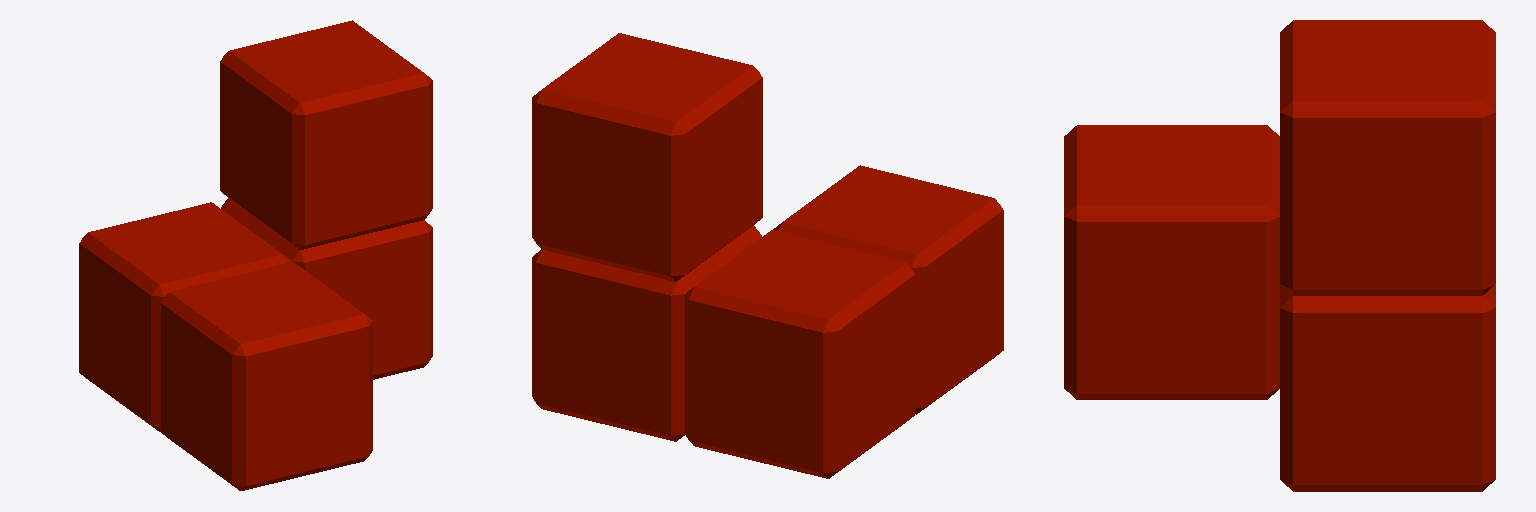
--- Facts derived from the render (not from the file) ---
The picture shows the robot from 3 angles, left to right: view 1: azimuth 30°, elevation 25°; view 2: azimuth 150°, elevation 25°; view 3: azimuth 270°, elevation 25°; orthographic projection.
Model obj_6 with 1 links and 0 joints (none), rooted at obj_6_link, posed all joints at 0.
Visible links, largest first — view 1: obj_6_link; view 2: obj_6_link; view 3: obj_6_link.
Link boxes in pixels (<box>): obj_6_link: <box>79,20,432,490</box>; obj_6_link: <box>532,33,1003,478</box>; obj_6_link: <box>1064,20,1495,491</box>.
Bounding box of the posed robot: 0.25 × 0.25 × 0.25 m (x, y, z).
1 mesh visuals loaded from 1 distinct referenced files (1 OBJ).

URDF robot description (obj_6):
<robot name="obj_6" version="1.0">
  <link name="obj_6_link">
    <collision name="obj_6-collision.001">
      <origin rpy="-1.57080 0.00000 -1.57080" xyz="-0.60316 0.39335 0.06643"/>
      <geometry>
        <mesh filename="../meshes/obj/obj_6-collision.001.obj" scale="1.00000 1.00000 1.00000"/>
      </geometry>
    </collision>
    <collision name="obj_6-collision.002">
      <origin rpy="-1.57080 0.00000 -2.35619" xyz="-0.60691 0.33460 0.06643"/>
      <geometry>
        <mesh filename="../meshes/obj/obj_6-collision.002.obj" scale="1.00000 1.00000 1.00000"/>
      </geometry>
    </collision>
    <collision name="obj_6-collision.003">
      <origin rpy="1.57080 -1.57080 -0.00000" xyz="-0.66566 0.33085 0.06643"/>
      <geometry>
        <mesh filename="../meshes/obj/obj_6-collision.003.obj" scale="1.00000 1.00000 1.00000"/>
      </geometry>
    </collision>
    <collision name="obj_6-collision.004">
      <origin rpy="1.57080 0.00000 -0.78540" xyz="-0.72441 0.33460 0.06643"/>
      <geometry>
        <mesh filename="../meshes/obj/obj_6-collision.004.obj" scale="1.00000 1.00000 1.00000"/>
      </geometry>
    </collision>
    <collision name="obj_6-collision.005">
      <origin rpy="1.57080 0.00000 -2.35619" xyz="-0.72441 0.45210 0.06643"/>
      <geometry>
        <mesh filename="../meshes/obj/obj_6-collision.005.obj" scale="1.00000 1.00000 1.00000"/>
      </geometry>
    </collision>
    <collision name="obj_6-collision.006">
      <origin rpy="-1.57080 1.57080 0.00000" xyz="-0.66566 0.45585 0.06643"/>
      <geometry>
        <mesh filename="../meshes/obj/obj_6-collision.006.obj" scale="1.00000 1.00000 1.00000"/>
      </geometry>
    </collision>
    <collision name="obj_6-collision.007">
      <origin rpy="-1.57080 0.00000 -0.78540" xyz="-0.60691 0.45210 0.06643"/>
      <geometry>
        <mesh filename="../meshes/obj/obj_6-collision.007.obj" scale="1.00000 1.00000 1.00000"/>
      </geometry>
    </collision>
    <collision name="obj_6-collision.008">
      <origin rpy="-3.14159 -0.78540 -0.00000" xyz="-0.60691 0.39335 0.00768"/>
      <geometry>
        <mesh filename="../meshes/obj/obj_6-collision.008.obj" scale="1.00000 1.00000 1.00000"/>
      </geometry>
    </collision>
    <collision name="obj_6-collision.009">
      <origin rpy="2.35619 0.00000 -0.00000" xyz="-0.66566 0.33460 0.00768"/>
      <geometry>
        <mesh filename="../meshes/obj/obj_6-collision.009.obj" scale="1.00000 1.00000 1.00000"/>
      </geometry>
    </collision>
    <collision name="obj_6-collision.010">
      <origin rpy="-3.14159 0.78540 0.00000" xyz="-0.72441 0.39335 0.00768"/>
      <geometry>
        <mesh filename="../meshes/obj/obj_6-collision.010.obj" scale="1.00000 1.00000 1.00000"/>
      </geometry>
    </collision>
    <collision name="obj_6-collision.011">
      <origin rpy="-2.35619 0.00000 -0.00000" xyz="-0.66566 0.45210 0.00768"/>
      <geometry>
        <mesh filename="../meshes/obj/obj_6-collision.011.obj" scale="1.00000 1.00000 1.00000"/>
      </geometry>
    </collision>
    <collision name="obj_6-collision.012">
      <origin rpy="-3.14159 0.00000 -0.00000" xyz="-0.66566 0.39335 0.00393"/>
      <geometry>
        <mesh filename="../meshes/obj/obj_6-collision.012.obj" scale="1.00000 1.00000 1.00000"/>
      </geometry>
    </collision>
    <collision name="obj_6-collision.013">
      <origin rpy="-0.00000 -0.78540 -3.14159" xyz="-0.60691 0.39335 0.12518"/>
      <geometry>
        <mesh filename="../meshes/obj/obj_6-collision.013.obj" scale="1.00000 1.00000 1.00000"/>
      </geometry>
    </collision>
    <collision name="obj_6-collision.014">
      <origin rpy="-0.78540 -0.00000 3.14159" xyz="-0.66566 0.33450 0.12529"/>
      <geometry>
        <mesh filename="../meshes/obj/obj_6-collision.014.obj" scale="1.00000 1.00000 1.00000"/>
      </geometry>
    </collision>
    <collision name="obj_6-collision.015">
      <origin rpy="-0.00000 0.78540 3.14159" xyz="-0.72441 0.39335 0.12518"/>
      <geometry>
        <mesh filename="../meshes/obj/obj_6-collision.015.obj" scale="1.00000 1.00000 1.00000"/>
      </geometry>
    </collision>
    <collision name="obj_6-collision.016">
      <origin rpy="0.78540 -0.00000 3.14159" xyz="-0.66566 0.45210 0.12518"/>
      <geometry>
        <mesh filename="../meshes/obj/obj_6-collision.016.obj" scale="1.00000 1.00000 1.00000"/>
      </geometry>
    </collision>
    <collision name="obj_6-collision.017">
      <origin rpy="-2.35619 0.00000 -0.00000" xyz="-0.66566 0.45210 0.13268"/>
      <geometry>
        <mesh filename="../meshes/obj/obj_6-collision.017.obj" scale="1.00000 1.00000 1.00000"/>
      </geometry>
    </collision>
    <collision name="obj_6-collision.018">
      <origin rpy="-3.14159 0.78540 0.00000" xyz="-0.72441 0.39335 0.13268"/>
      <geometry>
        <mesh filename="../meshes/obj/obj_6-collision.018.obj" scale="1.00000 1.00000 1.00000"/>
      </geometry>
    </collision>
    <collision name="obj_6-collision.019">
      <origin rpy="2.35619 0.00000 -0.00000" xyz="-0.66566 0.33460 0.13268"/>
      <geometry>
        <mesh filename="../meshes/obj/obj_6-collision.019.obj" scale="1.00000 1.00000 1.00000"/>
      </geometry>
    </collision>
    <collision name="obj_6-collision.020">
      <origin rpy="-3.14159 -0.78540 -0.00000" xyz="-0.60691 0.39335 0.13268"/>
      <geometry>
        <mesh filename="../meshes/obj/obj_6-collision.020.obj" scale="1.00000 1.00000 1.00000"/>
      </geometry>
    </collision>
    <collision name="obj_6-collision.021">
      <origin rpy="1.57080 -1.57080 -0.00000" xyz="-0.66566 0.33085 0.19143"/>
      <geometry>
        <mesh filename="../meshes/obj/obj_6-collision.021.obj" scale="1.00000 1.00000 1.00000"/>
      </geometry>
    </collision>
    <collision name="obj_6-collision.022">
      <origin rpy="1.57080 0.00000 -0.78540" xyz="-0.72441 0.33460 0.19143"/>
      <geometry>
        <mesh filename="../meshes/obj/obj_6-collision.022.obj" scale="1.00000 1.00000 1.00000"/>
      </geometry>
    </collision>
    <collision name="obj_6-collision.023">
      <origin rpy="1.57080 0.00000 -1.57080" xyz="-0.72816 0.39335 0.19143"/>
      <geometry>
        <mesh filename="../meshes/obj/obj_6-collision.023.obj" scale="1.00000 1.00000 1.00000"/>
      </geometry>
    </collision>
    <collision name="obj_6-collision.024">
      <origin rpy="-2.35619 1.57080 0.00000" xyz="-0.72441 0.45210 0.19143"/>
      <geometry>
        <mesh filename="../meshes/obj/obj_6-collision.024.obj" scale="1.00000 1.00000 1.00000"/>
      </geometry>
    </collision>
    <collision name="obj_6-collision.025">
      <origin rpy="-1.57080 1.57080 0.00000" xyz="-0.66566 0.45585 0.19143"/>
      <geometry>
        <mesh filename="../meshes/obj/obj_6-collision.025.obj" scale="1.00000 1.00000 1.00000"/>
      </geometry>
    </collision>
    <collision name="obj_6-collision.026">
      <origin rpy="-1.57080 0.00000 -0.78540" xyz="-0.60691 0.45210 0.19143"/>
      <geometry>
        <mesh filename="../meshes/obj/obj_6-collision.026.obj" scale="1.00000 1.00000 1.00000"/>
      </geometry>
    </collision>
    <collision name="obj_6-collision.027">
      <origin rpy="-1.57080 0.00000 -1.57080" xyz="-0.60316 0.39335 0.19143"/>
      <geometry>
        <mesh filename="../meshes/obj/obj_6-collision.027.obj" scale="1.00000 1.00000 1.00000"/>
      </geometry>
    </collision>
    <collision name="obj_6-collision.028">
      <origin rpy="-1.57080 0.00000 -2.35619" xyz="-0.60691 0.33460 0.19143"/>
      <geometry>
        <mesh filename="../meshes/obj/obj_6-collision.028.obj" scale="1.00000 1.00000 1.00000"/>
      </geometry>
    </collision>
    <collision name="obj_6-collision.029">
      <origin rpy="-0.78540 -0.00000 3.14159" xyz="-0.66566 0.33460 0.25018"/>
      <geometry>
        <mesh filename="../meshes/obj/obj_6-collision.029.obj" scale="1.00000 1.00000 1.00000"/>
      </geometry>
    </collision>
    <collision name="obj_6-collision.030">
      <origin rpy="-0.00000 0.78540 3.14159" xyz="-0.72441 0.39335 0.25018"/>
      <geometry>
        <mesh filename="../meshes/obj/obj_6-collision.030.obj" scale="1.00000 1.00000 1.00000"/>
      </geometry>
    </collision>
    <collision name="obj_6-collision.031">
      <origin rpy="-0.78540 -0.00000 -0.00000" xyz="-0.66566 0.45210 0.25018"/>
      <geometry>
        <mesh filename="../meshes/obj/obj_6-collision.031.obj" scale="1.00000 1.00000 1.00000"/>
      </geometry>
    </collision>
    <collision name="obj_6-collision.032">
      <origin rpy="-0.00000 -0.78540 -3.14159" xyz="-0.60691 0.39335 0.25018"/>
      <geometry>
        <mesh filename="../meshes/obj/obj_6-collision.032.obj" scale="1.00000 1.00000 1.00000"/>
      </geometry>
    </collision>
    <collision name="obj_6-collision.033">
      <origin rpy="-0.00000 -0.00000 3.14159" xyz="-0.66566 0.39335 0.25393"/>
      <geometry>
        <mesh filename="../meshes/obj/obj_6-collision.033.obj" scale="1.00000 1.00000 1.00000"/>
      </geometry>
    </collision>
    <collision name="obj_6-collision.034">
      <origin rpy="-0.00000 -0.00000 3.14159" xyz="-0.79066 0.39335 0.12893"/>
      <geometry>
        <mesh filename="../meshes/obj/obj_6-collision.034.obj" scale="1.00000 1.00000 1.00000"/>
      </geometry>
    </collision>
    <collision name="obj_6-collision.035">
      <origin rpy="-0.78540 -0.00000 3.14159" xyz="-0.79066 0.33460 0.12518"/>
      <geometry>
        <mesh filename="../meshes/obj/obj_6-collision.035.obj" scale="1.00000 1.00000 1.00000"/>
      </geometry>
    </collision>
    <collision name="obj_6-collision.036">
      <origin rpy="-0.00000 -0.78540 -3.14159" xyz="-0.73191 0.39335 0.12518"/>
      <geometry>
        <mesh filename="../meshes/obj/obj_6-collision.036.obj" scale="1.00000 1.00000 1.00000"/>
      </geometry>
    </collision>
    <collision name="obj_6-collision.037">
      <origin rpy="0.78540 -0.00000 3.14159" xyz="-0.79066 0.45210 0.12518"/>
      <geometry>
        <mesh filename="../meshes/obj/obj_6-collision.037.obj" scale="1.00000 1.00000 1.00000"/>
      </geometry>
    </collision>
    <collision name="obj_6-collision.038">
      <origin rpy="-0.00000 0.78540 3.14159" xyz="-0.84941 0.39335 0.12518"/>
      <geometry>
        <mesh filename="../meshes/obj/obj_6-collision.038.obj" scale="1.00000 1.00000 1.00000"/>
      </geometry>
    </collision>
    <collision name="obj_6-collision.039">
      <origin rpy="-1.57080 1.57080 0.00000" xyz="-0.79066 0.45585 0.06643"/>
      <geometry>
        <mesh filename="../meshes/obj/obj_6-collision.039.obj" scale="1.00000 1.00000 1.00000"/>
      </geometry>
    </collision>
    <collision name="obj_6-collision.040">
      <origin rpy="-1.57080 0.00000 -0.78540" xyz="-0.73191 0.45210 0.06643"/>
      <geometry>
        <mesh filename="../meshes/obj/obj_6-collision.040.obj" scale="1.00000 1.00000 1.00000"/>
      </geometry>
    </collision>
    <collision name="obj_6-collision.041">
      <origin rpy="1.57080 0.00000 -2.35619" xyz="-0.84941 0.45210 0.06643"/>
      <geometry>
        <mesh filename="../meshes/obj/obj_6-collision.041.obj" scale="1.00000 1.00000 1.00000"/>
      </geometry>
    </collision>
    <collision name="obj_6-collision.042">
      <origin rpy="1.57080 0.00000 -1.57080" xyz="-0.85316 0.39335 0.06643"/>
      <geometry>
        <mesh filename="../meshes/obj/obj_6-collision.042.obj" scale="1.00000 1.00000 1.00000"/>
      </geometry>
    </collision>
    <collision name="obj_6-collision.043">
      <origin rpy="1.57080 0.00000 -0.78540" xyz="-0.84941 0.33460 0.06643"/>
      <geometry>
        <mesh filename="../meshes/obj/obj_6-collision.043.obj" scale="1.00000 1.00000 1.00000"/>
      </geometry>
    </collision>
    <collision name="obj_6-collision.044">
      <origin rpy="-1.57080 0.00000 -2.35619" xyz="-0.73191 0.33460 0.06643"/>
      <geometry>
        <mesh filename="../meshes/obj/obj_6-collision.044.obj" scale="1.00000 1.00000 1.00000"/>
      </geometry>
    </collision>
    <collision name="obj_6-collision.045">
      <origin rpy="2.35619 0.00000 -0.00000" xyz="-0.79066 0.33460 0.00768"/>
      <geometry>
        <mesh filename="../meshes/obj/obj_6-collision.045.obj" scale="1.00000 1.00000 1.00000"/>
      </geometry>
    </collision>
    <collision name="obj_6-collision.046">
      <origin rpy="-3.14159 0.78540 0.00000" xyz="-0.84941 0.39335 0.00768"/>
      <geometry>
        <mesh filename="../meshes/obj/obj_6-collision.046.obj" scale="1.00000 1.00000 1.00000"/>
      </geometry>
    </collision>
    <collision name="obj_6-collision.047">
      <origin rpy="-2.35619 0.00000 -0.00000" xyz="-0.79066 0.45210 0.00768"/>
      <geometry>
        <mesh filename="../meshes/obj/obj_6-collision.047.obj" scale="1.00000 1.00000 1.00000"/>
      </geometry>
    </collision>
    <collision name="obj_6-collision.048">
      <origin rpy="-3.14159 -0.78540 -0.00000" xyz="-0.73191 0.39335 0.00768"/>
      <geometry>
        <mesh filename="../meshes/obj/obj_6-collision.048.obj" scale="1.00000 1.00000 1.00000"/>
      </geometry>
    </collision>
    <collision name="obj_6-collision.049">
      <origin rpy="3.14159 0.00000 -1.57080" xyz="-0.79066 0.39335 0.00393"/>
      <geometry>
        <mesh filename="../meshes/obj/obj_6-collision.049.obj" scale="1.00000 1.00000 1.00000"/>
      </geometry>
    </collision>
    <collision name="obj_6-collision.050">
      <origin rpy="-3.14159 0.00000 -0.00000" xyz="-0.79066 0.26835 0.00393"/>
      <geometry>
        <mesh filename="../meshes/obj/obj_6-collision.050.obj" scale="1.00000 1.00000 1.00000"/>
      </geometry>
    </collision>
    <collision name="obj_6-collision.051">
      <origin rpy="-3.14159 0.78540 0.00000" xyz="-0.84941 0.26835 0.00768"/>
      <geometry>
        <mesh filename="../meshes/obj/obj_6-collision.051.obj" scale="1.00000 1.00000 1.00000"/>
      </geometry>
    </collision>
    <collision name="obj_6-collision.052">
      <origin rpy="-2.35619 0.00000 -0.00000" xyz="-0.79066 0.32710 0.00768"/>
      <geometry>
        <mesh filename="../meshes/obj/obj_6-collision.052.obj" scale="1.00000 1.00000 1.00000"/>
      </geometry>
    </collision>
    <collision name="obj_6-collision.053">
      <origin rpy="-3.14159 -0.78540 -0.00000" xyz="-0.73191 0.26835 0.00768"/>
      <geometry>
        <mesh filename="../meshes/obj/obj_6-collision.053.obj" scale="1.00000 1.00000 1.00000"/>
      </geometry>
    </collision>
    <collision name="obj_6-collision.054">
      <origin rpy="-3.14159 0.78540 1.57080" xyz="-0.79066 0.20960 0.00768"/>
      <geometry>
        <mesh filename="../meshes/obj/obj_6-collision.054.obj" scale="1.00000 1.00000 1.00000"/>
      </geometry>
    </collision>
    <collision name="obj_6-collision.055">
      <origin rpy="-2.35619 -1.57080 -0.00000" xyz="-0.73191 0.32710 0.06643"/>
      <geometry>
        <mesh filename="../meshes/obj/obj_6-collision.055.obj" scale="1.00000 1.00000 1.00000"/>
      </geometry>
    </collision>
    <collision name="obj_6-collision.056">
      <origin rpy="1.57080 -0.00000 1.57080" xyz="-0.72816 0.26835 0.06643"/>
      <geometry>
        <mesh filename="../meshes/obj/obj_6-collision.056.obj" scale="1.00000 1.00000 1.00000"/>
      </geometry>
    </collision>
    <collision name="obj_6-collision.057">
      <origin rpy="0.78540 1.57080 -0.00000" xyz="-0.73191 0.20960 0.06643"/>
      <geometry>
        <mesh filename="../meshes/obj/obj_6-collision.057.obj" scale="1.00000 1.00000 1.00000"/>
      </geometry>
    </collision>
    <collision name="obj_6-collision.058">
      <origin rpy="1.57080 -1.57080 -0.00000" xyz="-0.79066 0.20585 0.06643"/>
      <geometry>
        <mesh filename="../meshes/obj/obj_6-collision.058.obj" scale="1.00000 1.00000 1.00000"/>
      </geometry>
    </collision>
    <collision name="obj_6-collision.059">
      <origin rpy="1.57080 0.00000 -0.78540" xyz="-0.84941 0.20960 0.06643"/>
      <geometry>
        <mesh filename="../meshes/obj/obj_6-collision.059.obj" scale="1.00000 1.00000 1.00000"/>
      </geometry>
    </collision>
    <collision name="obj_6-collision.060">
      <origin rpy="-1.57080 -0.00000 1.57080" xyz="-0.85316 0.26835 0.06643"/>
      <geometry>
        <mesh filename="../meshes/obj/obj_6-collision.060.obj" scale="1.00000 1.00000 1.00000"/>
      </geometry>
    </collision>
    <collision name="obj_6-collision.061">
      <origin rpy="1.57080 0.00000 -2.35619" xyz="-0.84941 0.32710 0.06643"/>
      <geometry>
        <mesh filename="../meshes/obj/obj_6-collision.061.obj" scale="1.00000 1.00000 1.00000"/>
      </geometry>
    </collision>
    <collision name="obj_6-collision.062">
      <origin rpy="-0.00000 0.78540 3.14159" xyz="-0.84941 0.26835 0.12518"/>
      <geometry>
        <mesh filename="../meshes/obj/obj_6-collision.062.obj" scale="1.00000 1.00000 1.00000"/>
      </geometry>
    </collision>
    <collision name="obj_6-collision.063">
      <origin rpy="0.78540 -0.00000 3.14159" xyz="-0.79066 0.32710 0.12518"/>
      <geometry>
        <mesh filename="../meshes/obj/obj_6-collision.063.obj" scale="1.00000 1.00000 1.00000"/>
      </geometry>
    </collision>
    <collision name="obj_6-collision.064">
      <origin rpy="-0.00000 -0.78540 -3.14159" xyz="-0.73191 0.26835 0.12518"/>
      <geometry>
        <mesh filename="../meshes/obj/obj_6-collision.064.obj" scale="1.00000 1.00000 1.00000"/>
      </geometry>
    </collision>
    <collision name="obj_6-collision.065">
      <origin rpy="-0.78540 -0.00000 3.14159" xyz="-0.79066 0.20960 0.12518"/>
      <geometry>
        <mesh filename="../meshes/obj/obj_6-collision.065.obj" scale="1.00000 1.00000 1.00000"/>
      </geometry>
    </collision>
    <collision name="obj_6-collision.066">
      <origin rpy="-0.00000 -0.00000 3.14159" xyz="-0.79066 0.26835 0.12893"/>
      <geometry>
        <mesh filename="../meshes/obj/obj_6-collision.066.obj" scale="1.00000 1.00000 1.00000"/>
      </geometry>
    </collision>
    <collision name="obj_6-collision.067">
      <origin rpy="1.57080 -1.57080 -0.00000" xyz="-0.72816 0.36062 0.09917"/>
      <geometry>
        <mesh filename="../meshes/obj/obj_6-collision.067.obj" scale="0.00500 0.00500 0.00500"/>
      </geometry>
    </collision>
    <collision name="obj_6-collision.068">
      <origin rpy="1.57080 -1.57080 -0.00000" xyz="-0.72816 0.36062 0.09917"/>
      <geometry>
        <mesh filename="../meshes/obj/obj_6-collision.068.obj" scale="0.00500 0.00500 0.00500"/>
      </geometry>
    </collision>
    <collision name="obj_6-collision.069">
      <origin rpy="1.57080 -1.57080 -0.00000" xyz="-0.72816 0.36062 0.09917"/>
      <geometry>
        <mesh filename="../meshes/obj/obj_6-collision.069.obj" scale="0.00500 0.00500 0.00500"/>
      </geometry>
    </collision>
    <collision name="obj_6-collision.070">
      <origin rpy="1.57080 -1.57080 -0.00000" xyz="-0.72816 0.36062 0.09917"/>
      <geometry>
        <mesh filename="../meshes/obj/obj_6-collision.070.obj" scale="0.00500 0.00500 0.00500"/>
      </geometry>
    </collision>
    <collision name="obj_6-collision.071">
      <origin rpy="1.57080 -1.57080 -0.00000" xyz="-0.72816 0.36062 0.09917"/>
      <geometry>
        <mesh filename="../meshes/obj/obj_6-collision.071.obj" scale="0.00500 0.00500 0.00500"/>
      </geometry>
    </collision>
    <collision name="obj_6-collision.072">
      <origin rpy="1.57080 -1.57080 -0.00000" xyz="-0.72816 0.36062 0.09917"/>
      <geometry>
        <mesh filename="../meshes/obj/obj_6-collision.072.obj" scale="0.00500 0.00500 0.00500"/>
      </geometry>
    </collision>
    <collision name="obj_6-collision.073">
      <origin rpy="1.57080 -1.57080 -0.00000" xyz="-0.72816 0.36062 0.09917"/>
      <geometry>
        <mesh filename="../meshes/obj/obj_6-collision.073.obj" scale="0.00500 0.00500 0.00500"/>
      </geometry>
    </collision>
    <collision name="obj_6-collision.074">
      <origin rpy="1.57080 -1.57080 -0.00000" xyz="-0.72816 0.36062 0.09917"/>
      <geometry>
        <mesh filename="../meshes/obj/obj_6-collision.074.obj" scale="0.00500 0.00500 0.00500"/>
      </geometry>
    </collision>
    <collision name="obj_6-collision.075">
      <origin rpy="1.57080 -1.57080 -0.00000" xyz="-0.72816 0.36062 0.09917"/>
      <geometry>
        <mesh filename="../meshes/obj/obj_6-collision.075.obj" scale="0.00500 0.00500 0.00500"/>
      </geometry>
    </collision>
    <collision name="obj_6-collision.076">
      <origin rpy="1.57080 -1.57080 -0.00000" xyz="-0.72816 0.36062 0.09917"/>
      <geometry>
        <mesh filename="../meshes/obj/obj_6-collision.076.obj" scale="0.00500 0.00500 0.00500"/>
      </geometry>
    </collision>
    <collision name="obj_6-collision.077">
      <origin rpy="1.57080 -1.57080 -0.00000" xyz="-0.72816 0.36062 0.09917"/>
      <geometry>
        <mesh filename="../meshes/obj/obj_6-collision.077.obj" scale="0.00500 0.00500 0.00500"/>
      </geometry>
    </collision>
    <collision name="obj_6-collision.078">
      <origin rpy="1.57080 -1.57080 -0.00000" xyz="-0.72816 0.36062 0.09917"/>
      <geometry>
        <mesh filename="../meshes/obj/obj_6-collision.078.obj" scale="0.00500 0.00500 0.00500"/>
      </geometry>
    </collision>
    <collision name="obj_6-collision.079">
      <origin rpy="1.57080 -1.57080 -0.00000" xyz="-0.72816 0.36062 0.09917"/>
      <geometry>
        <mesh filename="../meshes/obj/obj_6-collision.079.obj" scale="0.00500 0.00500 0.00500"/>
      </geometry>
    </collision>
    <collision name="obj_6-collision.080">
      <origin rpy="1.57080 -1.57080 -0.00000" xyz="-0.72816 0.36062 0.09917"/>
      <geometry>
        <mesh filename="../meshes/obj/obj_6-collision.080.obj" scale="0.00500 0.00500 0.00500"/>
      </geometry>
    </collision>
    <collision name="obj_6-collision.081">
      <origin rpy="1.57080 -1.57080 -0.00000" xyz="-0.72816 0.36062 0.09917"/>
      <geometry>
        <mesh filename="../meshes/obj/obj_6-collision.081.obj" scale="0.00500 0.00500 0.00500"/>
      </geometry>
    </collision>
    <collision name="obj_6-collision.082">
      <origin rpy="1.57080 -1.57080 -0.00000" xyz="-0.72816 0.36062 0.09917"/>
      <geometry>
        <mesh filename="../meshes/obj/obj_6-collision.082.obj" scale="0.00500 0.00500 0.00500"/>
      </geometry>
    </collision>
    <collision name="obj_6-collision.083">
      <origin rpy="1.57080 -1.57080 -0.00000" xyz="-0.72816 0.36062 0.09917"/>
      <geometry>
        <mesh filename="../meshes/obj/obj_6-collision.083.obj" scale="0.00500 0.00500 0.00500"/>
      </geometry>
    </collision>
    <collision name="obj_6-collision.084">
      <origin rpy="1.57080 -1.57080 -0.00000" xyz="-0.72816 0.36062 0.09917"/>
      <geometry>
        <mesh filename="../meshes/obj/obj_6-collision.084.obj" scale="0.00500 0.00500 0.00500"/>
      </geometry>
    </collision>
    <collision name="obj_6-collision.085">
      <origin rpy="1.57080 -1.57080 -0.00000" xyz="-0.72816 0.36062 0.09917"/>
      <geometry>
        <mesh filename="../meshes/obj/obj_6-collision.085.obj" scale="0.00500 0.00500 0.00500"/>
      </geometry>
    </collision>
    <collision name="obj_6-collision.086">
      <origin rpy="1.57080 -1.57080 -0.00000" xyz="-0.72816 0.36062 0.09917"/>
      <geometry>
        <mesh filename="../meshes/obj/obj_6-collision.086.obj" scale="0.00500 0.00500 0.00500"/>
      </geometry>
    </collision>
    <collision name="obj_6-collision.087">
      <origin rpy="1.57080 -1.57080 -0.00000" xyz="-0.72816 0.36062 0.09917"/>
      <geometry>
        <mesh filename="../meshes/obj/obj_6-collision.087.obj" scale="0.00500 0.00500 0.00500"/>
      </geometry>
    </collision>
    <collision name="obj_6-collision.088">
      <origin rpy="1.57080 -1.57080 -0.00000" xyz="-0.72816 0.36062 0.09917"/>
      <geometry>
        <mesh filename="../meshes/obj/obj_6-collision.088.obj" scale="0.00500 0.00500 0.00500"/>
      </geometry>
    </collision>
    <collision name="obj_6-collision.089">
      <origin rpy="1.57080 -1.57080 -0.00000" xyz="-0.72816 0.36062 0.09917"/>
      <geometry>
        <mesh filename="../meshes/obj/obj_6-collision.089.obj" scale="0.00500 0.00500 0.00500"/>
      </geometry>
    </collision>
    <collision name="obj_6-collision.090">
      <origin rpy="1.57080 -1.57080 -0.00000" xyz="-0.72816 0.36062 0.09917"/>
      <geometry>
        <mesh filename="../meshes/obj/obj_6-collision.090.obj" scale="0.00500 0.00500 0.00500"/>
      </geometry>
    </collision>
    <collision name="obj_6-collision.091">
      <origin rpy="1.57080 -1.57080 -0.00000" xyz="-0.72816 0.36062 0.09917"/>
      <geometry>
        <mesh filename="../meshes/obj/obj_6-collision.091.obj" scale="0.00500 0.00500 0.00500"/>
      </geometry>
    </collision>
    <collision name="obj_6-collision.092">
      <origin rpy="1.57080 -1.57080 -0.00000" xyz="-0.72816 0.36062 0.09917"/>
      <geometry>
        <mesh filename="../meshes/obj/obj_6-collision.092.obj" scale="0.00500 0.00500 0.00500"/>
      </geometry>
    </collision>
    <collision name="obj_6-collision.093">
      <origin rpy="1.57080 -1.57080 -0.00000" xyz="-0.72816 0.36062 0.09917"/>
      <geometry>
        <mesh filename="../meshes/obj/obj_6-collision.093.obj" scale="0.00500 0.00500 0.00500"/>
      </geometry>
    </collision>
    <collision name="obj_6-collision.094">
      <origin rpy="1.57080 -1.57080 -0.00000" xyz="-0.72816 0.36062 0.09917"/>
      <geometry>
        <mesh filename="../meshes/obj/obj_6-collision.094.obj" scale="0.00500 0.00500 0.00500"/>
      </geometry>
    </collision>
    <collision name="obj_6-collision.095">
      <origin rpy="1.57080 -1.57080 -0.00000" xyz="-0.72816 0.36062 0.09917"/>
      <geometry>
        <mesh filename="../meshes/obj/obj_6-collision.095.obj" scale="0.00500 0.00500 0.00500"/>
      </geometry>
    </collision>
    <collision name="obj_6-collision.096">
      <origin rpy="1.57080 -1.57080 -0.00000" xyz="-0.72816 0.36062 0.09917"/>
      <geometry>
        <mesh filename="../meshes/obj/obj_6-collision.096.obj" scale="0.00500 0.00500 0.00500"/>
      </geometry>
    </collision>
    <collision name="obj_6-collision.097">
      <origin rpy="1.57080 -1.57080 -0.00000" xyz="-0.72816 0.36062 0.09917"/>
      <geometry>
        <mesh filename="../meshes/obj/obj_6-collision.097.obj" scale="0.00500 0.00500 0.00500"/>
      </geometry>
    </collision>
    <collision name="obj_6-collision.098">
      <origin rpy="1.57080 -1.57080 -0.00000" xyz="-0.72816 0.36062 0.09917"/>
      <geometry>
        <mesh filename="../meshes/obj/obj_6-collision.098.obj" scale="0.00500 0.00500 0.00500"/>
      </geometry>
    </collision>
    <inertial>
      <inertia ixx="0.00042" ixy="-0.00010" ixz="-0.00010" iyy="0.00047" iyz="-0.00005" izz="0.00047"/>
      <origin rpy="0.00000 0.00000 0.00000" xyz="-0.72816 0.36210 0.09768"/>
      <mass value="0.05000"/>
    </inertial>
    <visual name="obj_6">
      <material name="turnarrow_vermillion"/>
      <origin rpy="1.57080 -1.57080 -0.00000" xyz="-0.72816 0.36062 0.09917"/>
      <geometry>
        <mesh filename="../meshes/obj/bt_cube3x3_bricks.005.obj" scale="0.00500 0.00500 0.00500"/>
      </geometry>
    </visual>
  </link>
  <material name="turnarrow_vermillion">
    <color rgba="0.66275 0.10980 0.00000 1.00000"/>
  </material>
</robot>
